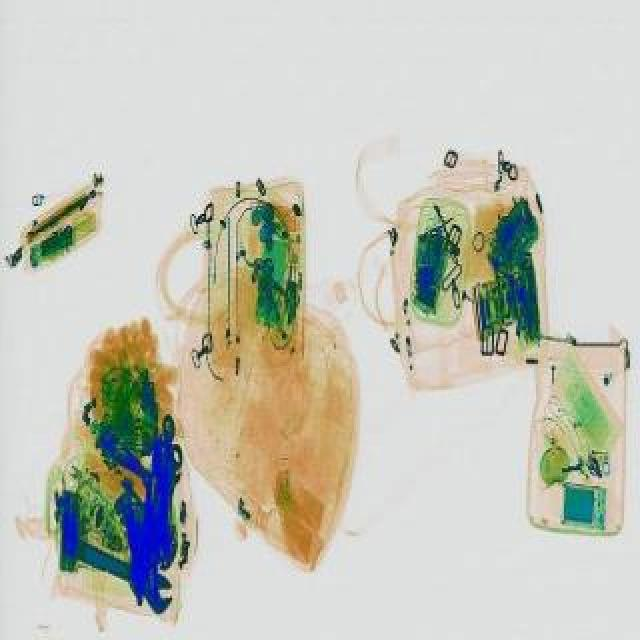scissors: (50, 520, 186, 616)
